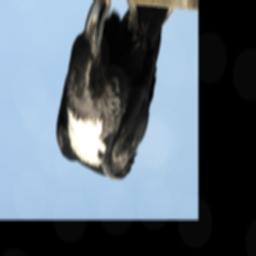Crow: (54, 0, 174, 185)
